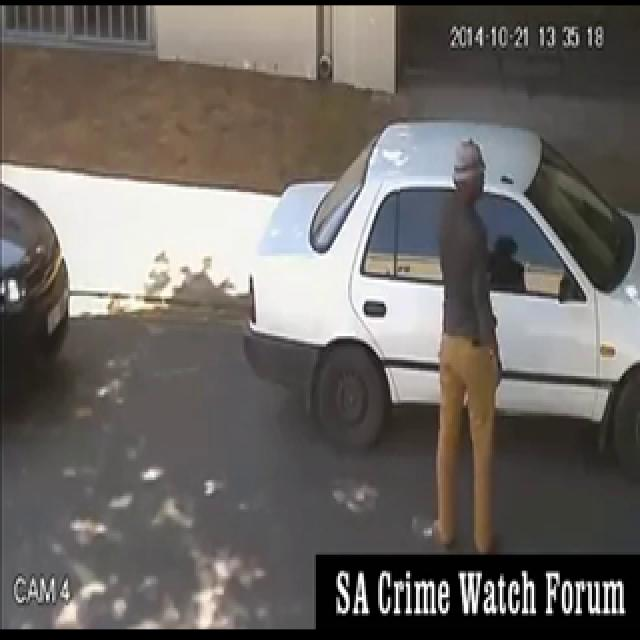stealing: (8, 2, 640, 623)
